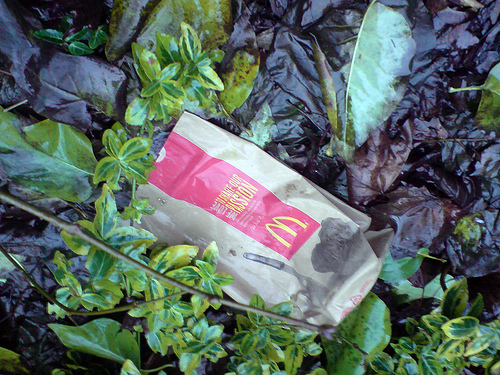litter: (147, 110, 383, 335)
